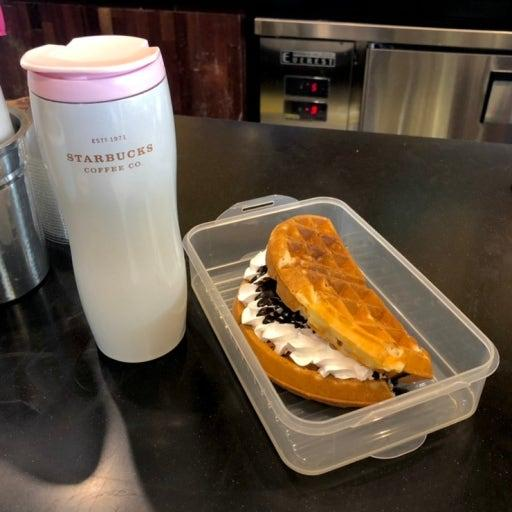Bottle: (20, 35, 186, 361), (0, 90, 48, 303)
Lunch Box: (183, 196, 498, 474)
